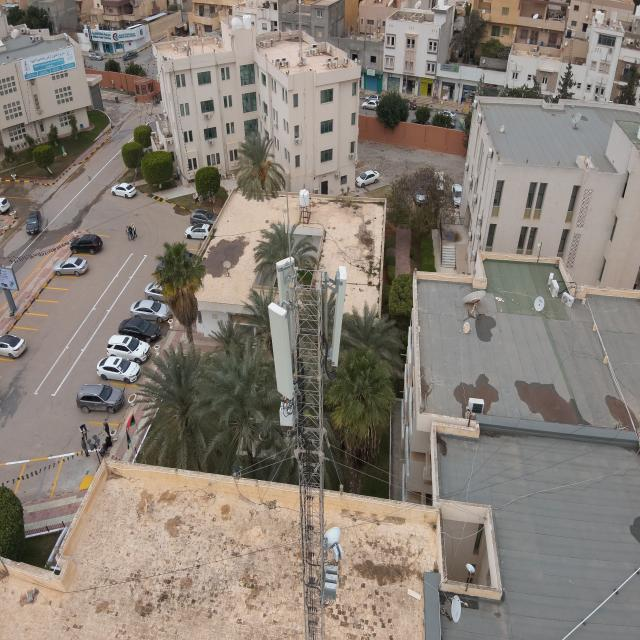antenna: (265, 301, 295, 401), (330, 265, 347, 367), (275, 257, 295, 307)
lighnig-rad: (281, 174, 295, 294)
microware-dish: (322, 525, 344, 563)
power-box: (323, 563, 339, 603)
radio-unit: (276, 399, 295, 427)
